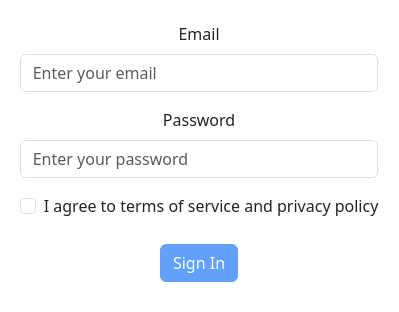
Project E2E testing › wrong email test
The image size is (399, 312).
In the field with test id "input-email": (200, 73) [20,54,379,92], type "deneme"
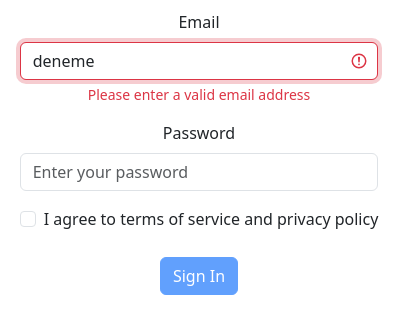
Expected: the button with test id "input-button" is disabled, [160,257,238,295]
Result: the text "Please enter a valid email address" is shown at [88,84,310,104]
